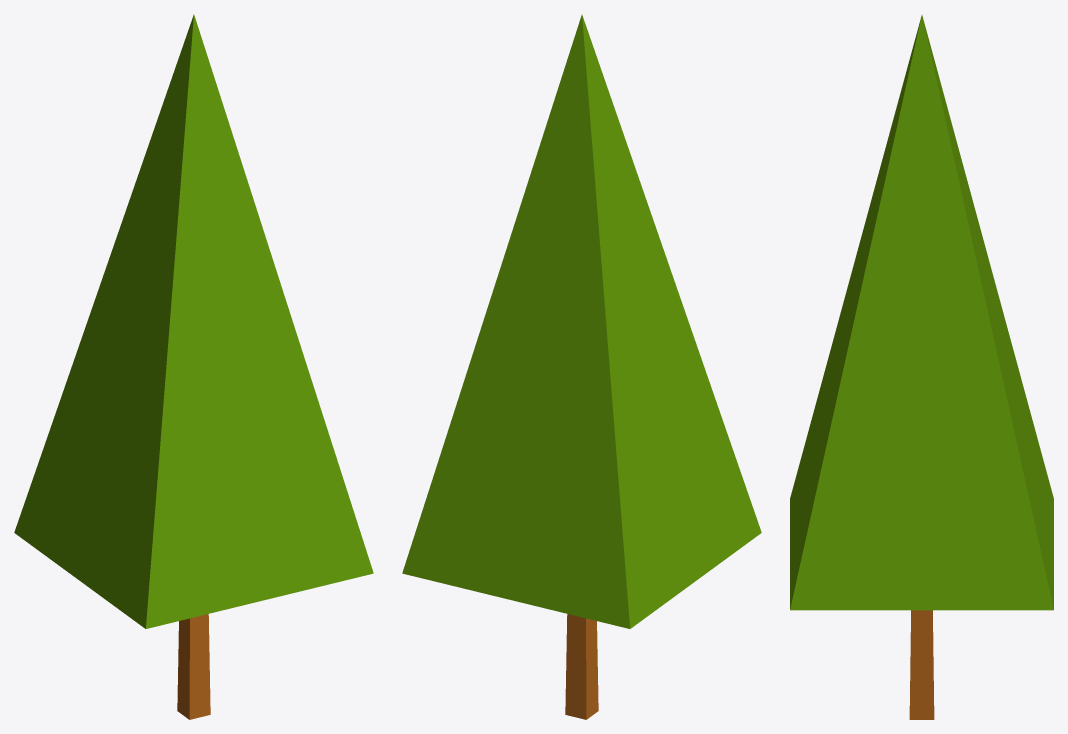
The model's file is Tree_33_Spring.fbx.
3 views of the same model, side by side, from view 1: azimuth 30°, elevation 25°; view 2: azimuth 150°, elevation 25°; view 3: azimuth 270°, elevation 25° (orthographic).
Parts seen in each view (by area): view 1: Tree_33_Spring; view 2: Tree_33_Spring; view 3: Tree_33_Spring.
Part boxes in pixels (bbox=[...]): Tree_33_Spring: bbox=[14, 14, 373, 719]; Tree_33_Spring: bbox=[402, 14, 761, 719]; Tree_33_Spring: bbox=[790, 15, 1053, 719].
Size of the model in its own units: 153 by 448 by 153.
